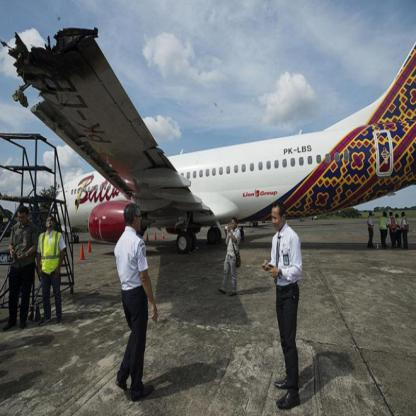CIV_Plane: (2, 19, 416, 260)
